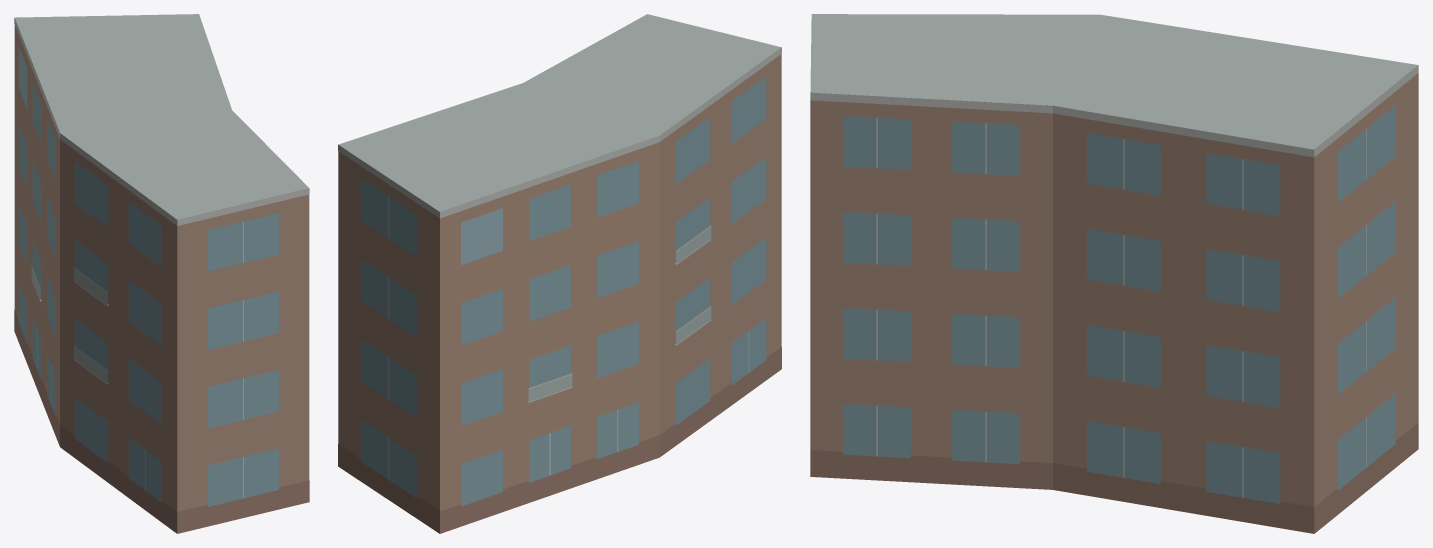
File: survey-upis-32595251.glb
3 views of the same model, side by side, from view 1: azimuth 30°, elevation 25°; view 2: azimuth 150°, elevation 25°; view 3: azimuth 270°, elevation 25° (orthographic). The views are drawn at different scales.
Visible parts, largest first — view 1: survey-upis-32595251.tmp; view 2: survey-upis-32595251.tmp; view 3: survey-upis-32595251.tmp.
Part boxes in pixels (x1,y1,x2,y2): survey-upis-32595251.tmp: (14,14,309,533); survey-upis-32595251.tmp: (338,14,781,533); survey-upis-32595251.tmp: (810,14,1418,533).
Bounding box in the file's own units: 9.26 × 12.2 × 17.51.
